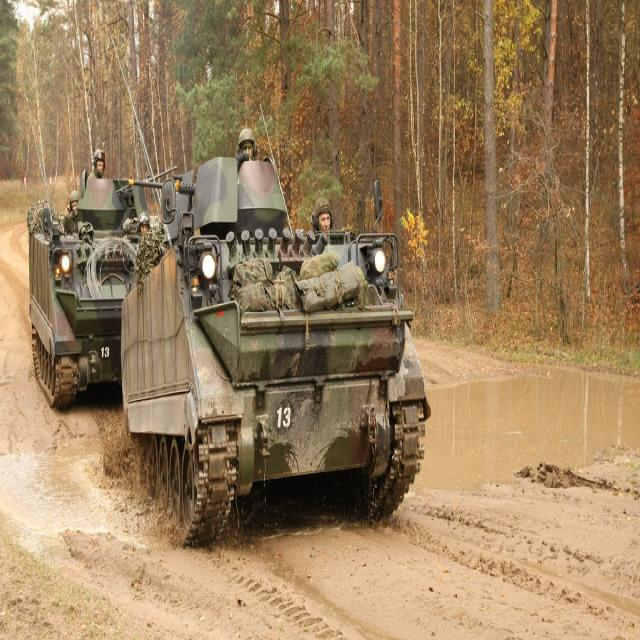tank: (113, 31, 433, 550), (24, 86, 172, 400)
